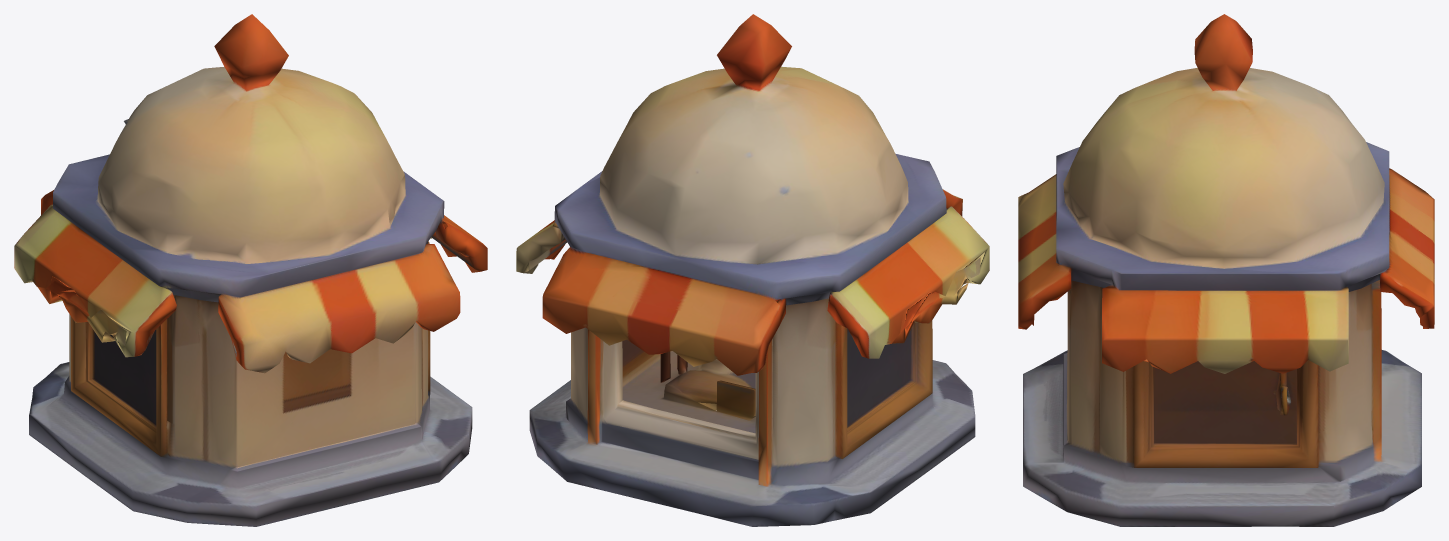
The model's file is SM_Bld_OpportunityCenter_01.glb.
The picture shows the model from 3 angles, left to right: view 1: azimuth 30°, elevation 25°; view 2: azimuth 150°, elevation 25°; view 3: azimuth 270°, elevation 25°; orthographic projection. The views are drawn at different scales.
Parts seen in each view (by area): view 1: tripo_node_ae72b273-2eb6-49ea-a3f9-1f9a966ce18e; view 2: tripo_node_ae72b273-2eb6-49ea-a3f9-1f9a966ce18e; view 3: tripo_node_ae72b273-2eb6-49ea-a3f9-1f9a966ce18e.
Part boxes in pixels (left/top/right/bottom): tripo_node_ae72b273-2eb6-49ea-a3f9-1f9a966ce18e: left=14, top=14, right=487, bottom=526; tripo_node_ae72b273-2eb6-49ea-a3f9-1f9a966ce18e: left=516, top=14, right=989, bottom=526; tripo_node_ae72b273-2eb6-49ea-a3f9-1f9a966ce18e: left=1018, top=14, right=1434, bottom=526.
Bounding box in the file's own units: 0.8874 × 1.01 × 0.8859.
1 material, 1 textured.
